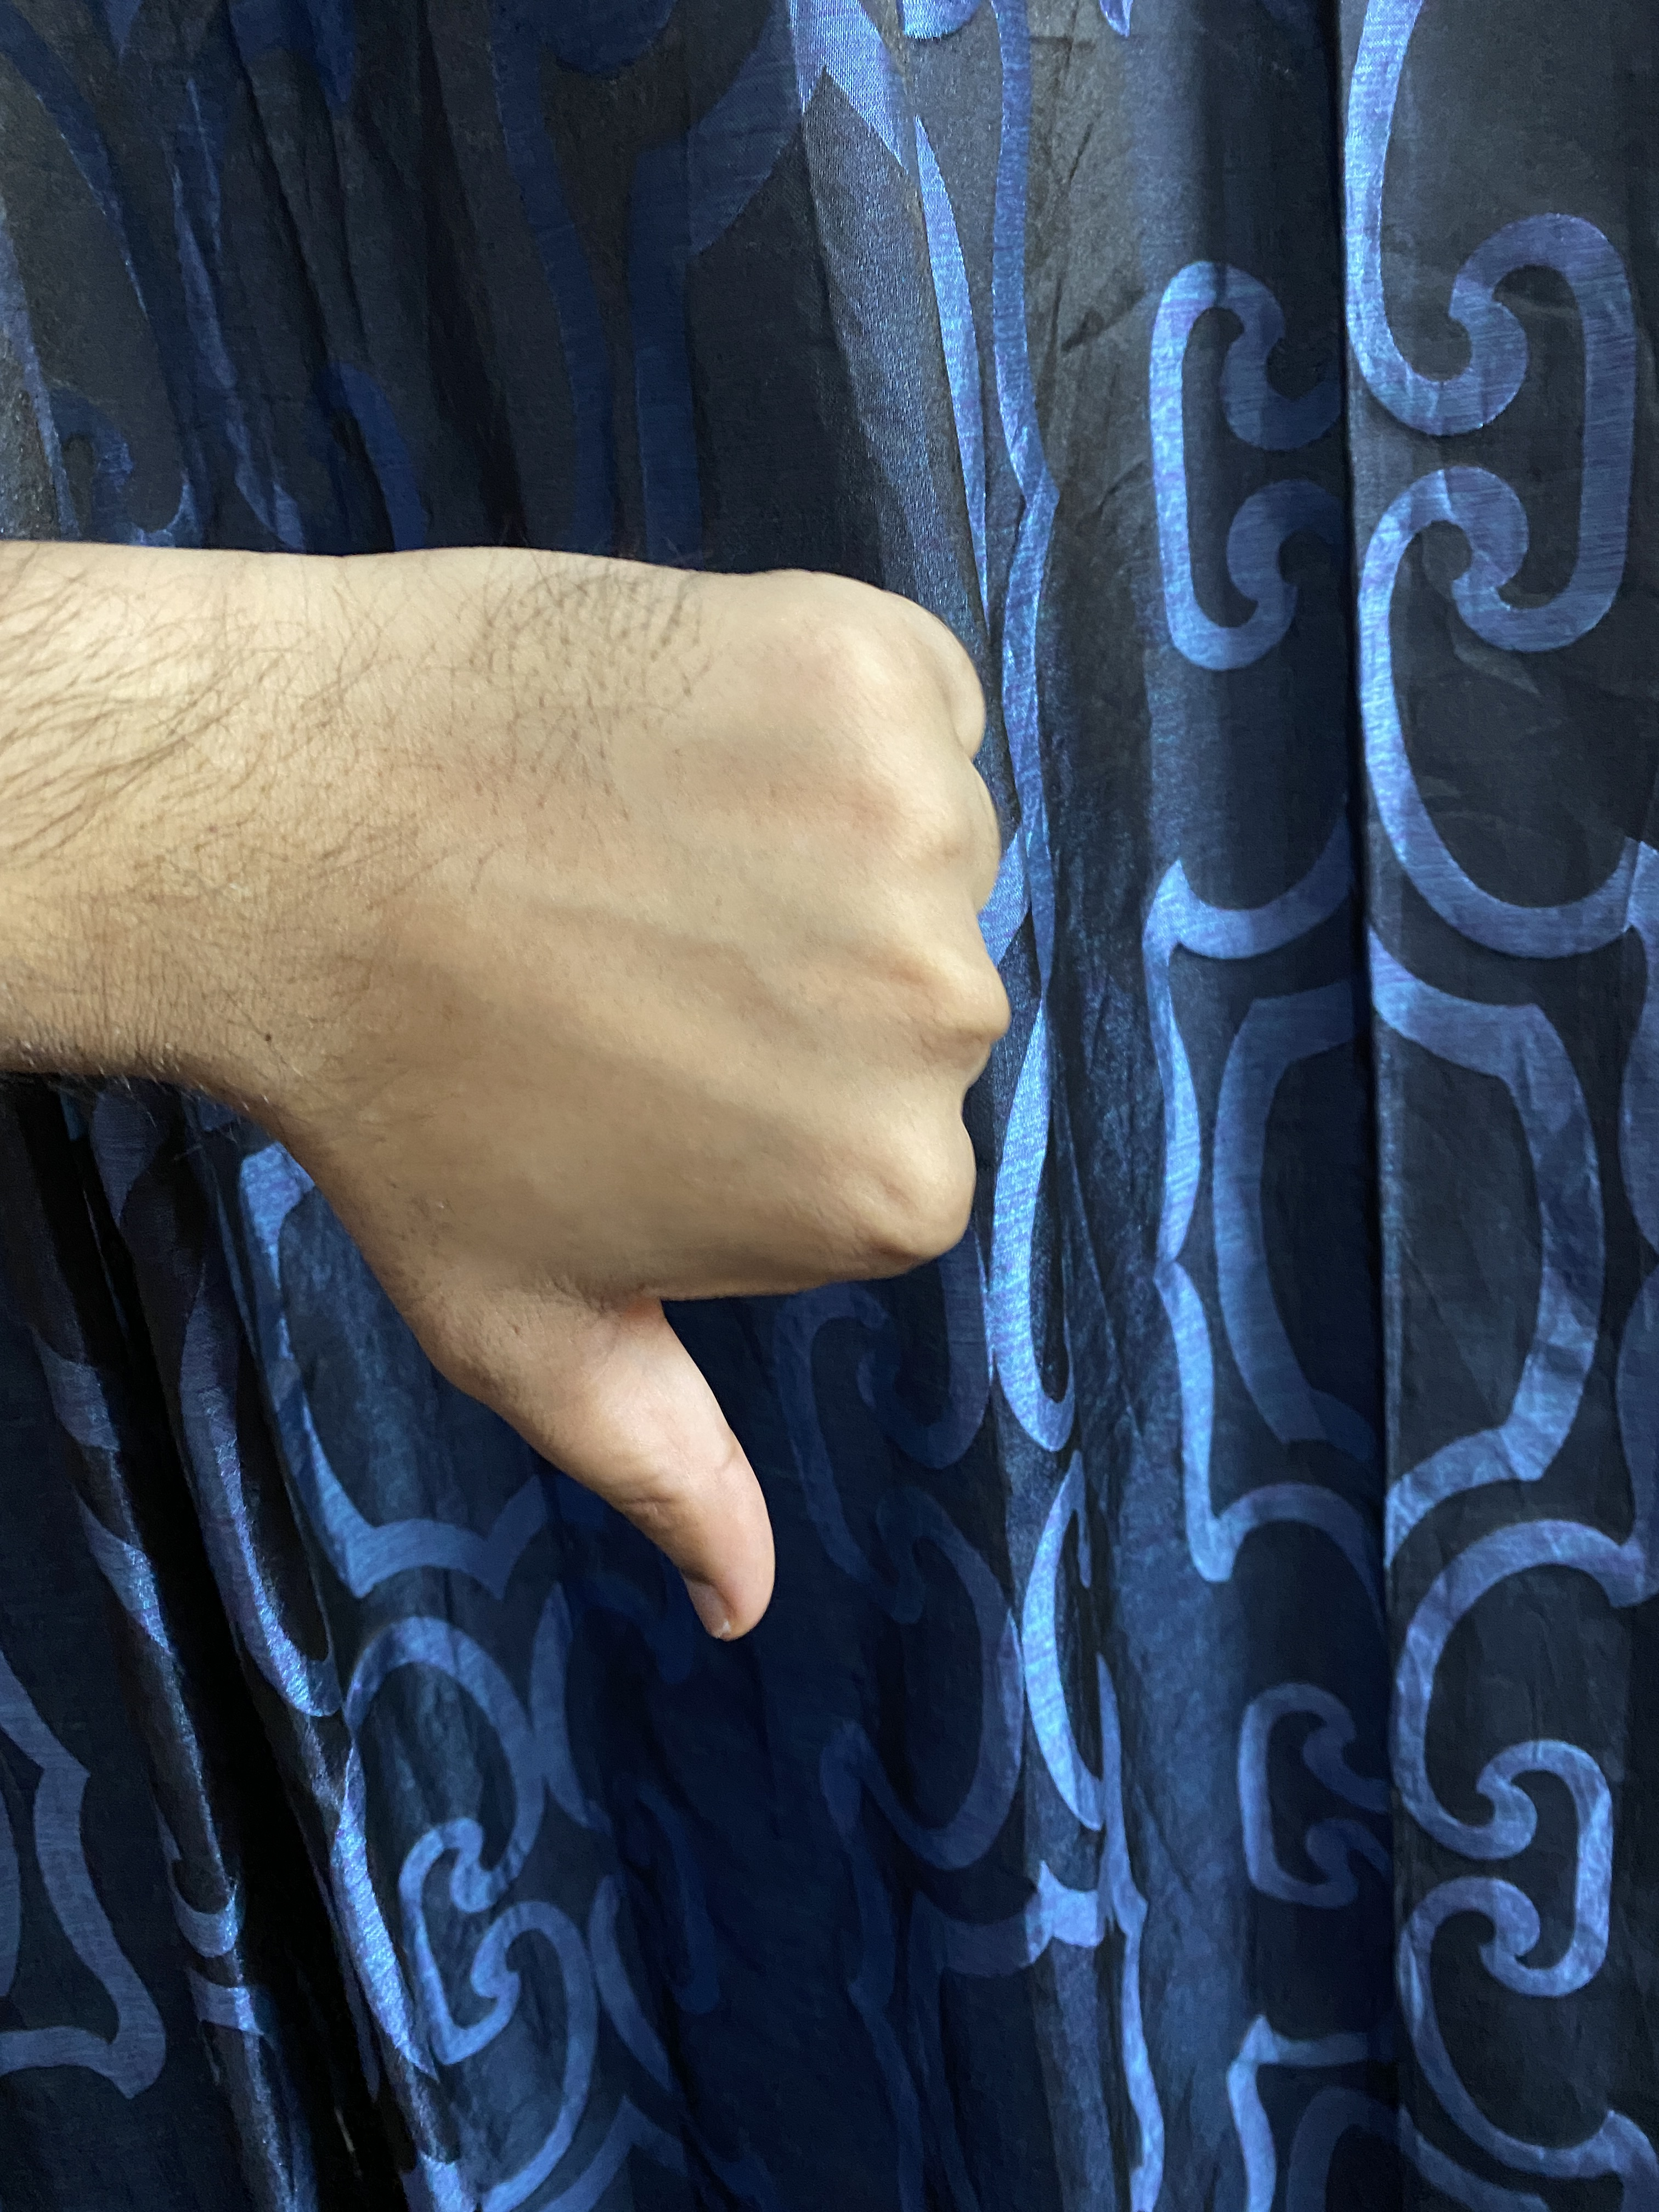down: (5, 453, 1047, 1703)
